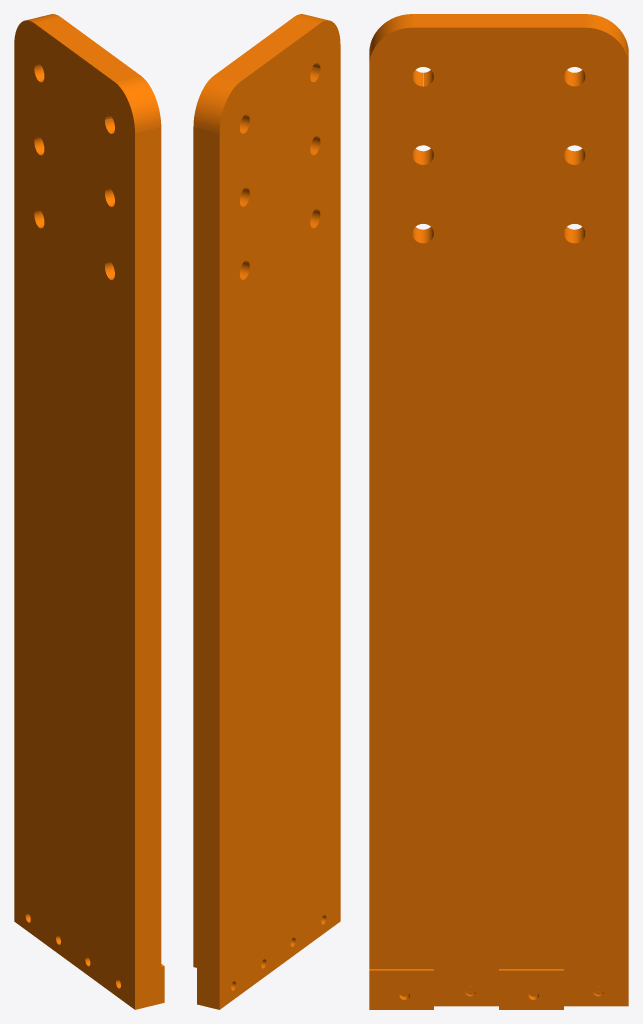
Rendered from cuttingplate2.fbx.
The picture shows the model from 3 angles, left to right: view 1: azimuth 30°, elevation 25°; view 2: azimuth 150°, elevation 25°; view 3: azimuth 270°, elevation 25°; orthographic projection. The views are drawn at different scales.
Parts seen in each view (by area): view 1: Difference; view 2: Difference; view 3: Difference.
Boxes of the visible parts, left/top/right/bottom form: Difference: left=14, top=14, right=164, bottom=1009; Difference: left=193, top=14, right=340, bottom=1009; Difference: left=369, top=14, right=628, bottom=1009.
Bounding box in the file's own units: 0.85 × 25 × 6.
